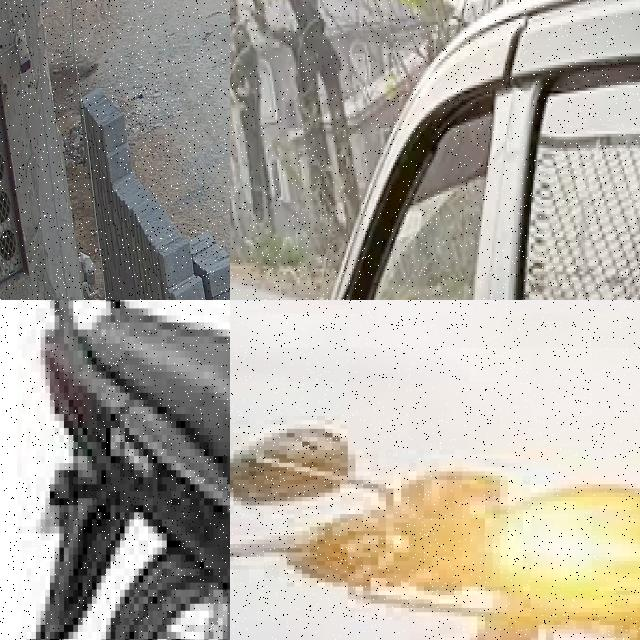bike: (230, 420, 640, 640), (12, 300, 230, 640)
car: (242, 0, 640, 300)
